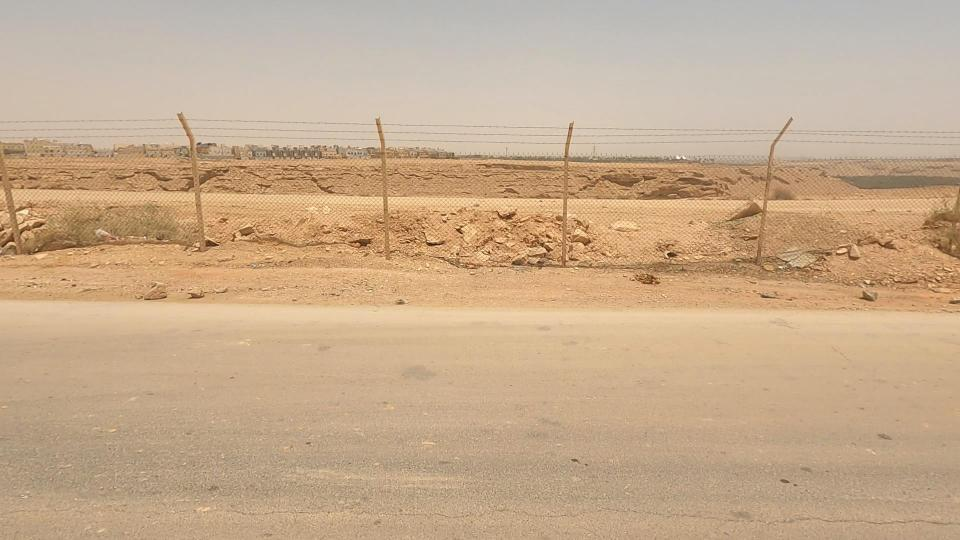GARBAGE: (62, 209, 147, 266), (765, 228, 838, 291)
